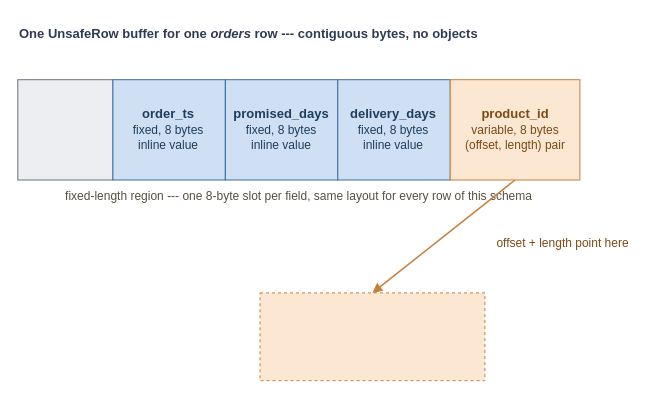
Some shapes in this 658 by 399 pixel diagram are drawn without their labels. The box of each missing label's shape, as (x1, y1, x2, y2) in pixels:
Null bitset 1 bit per field (8 bytes): (17, 79, 113, 180)
Variable-length region same buffer, past the last fixed slot bytes: "P-88213": (259, 292, 485, 381)
